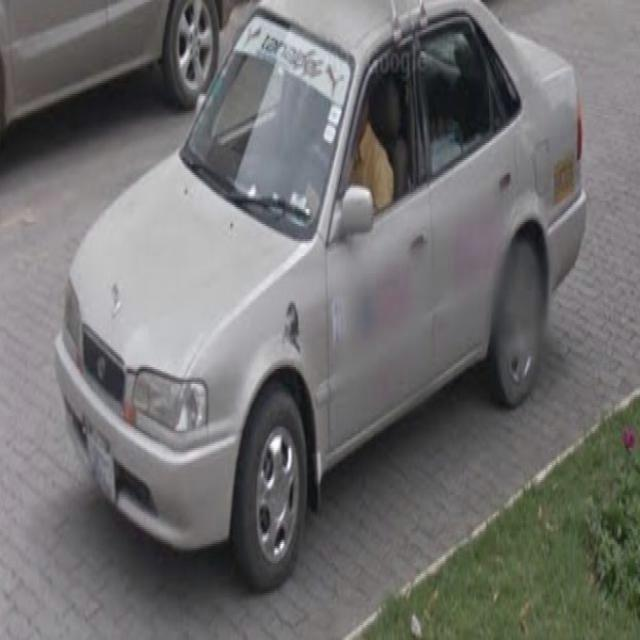Car: (61, 0, 590, 592)
